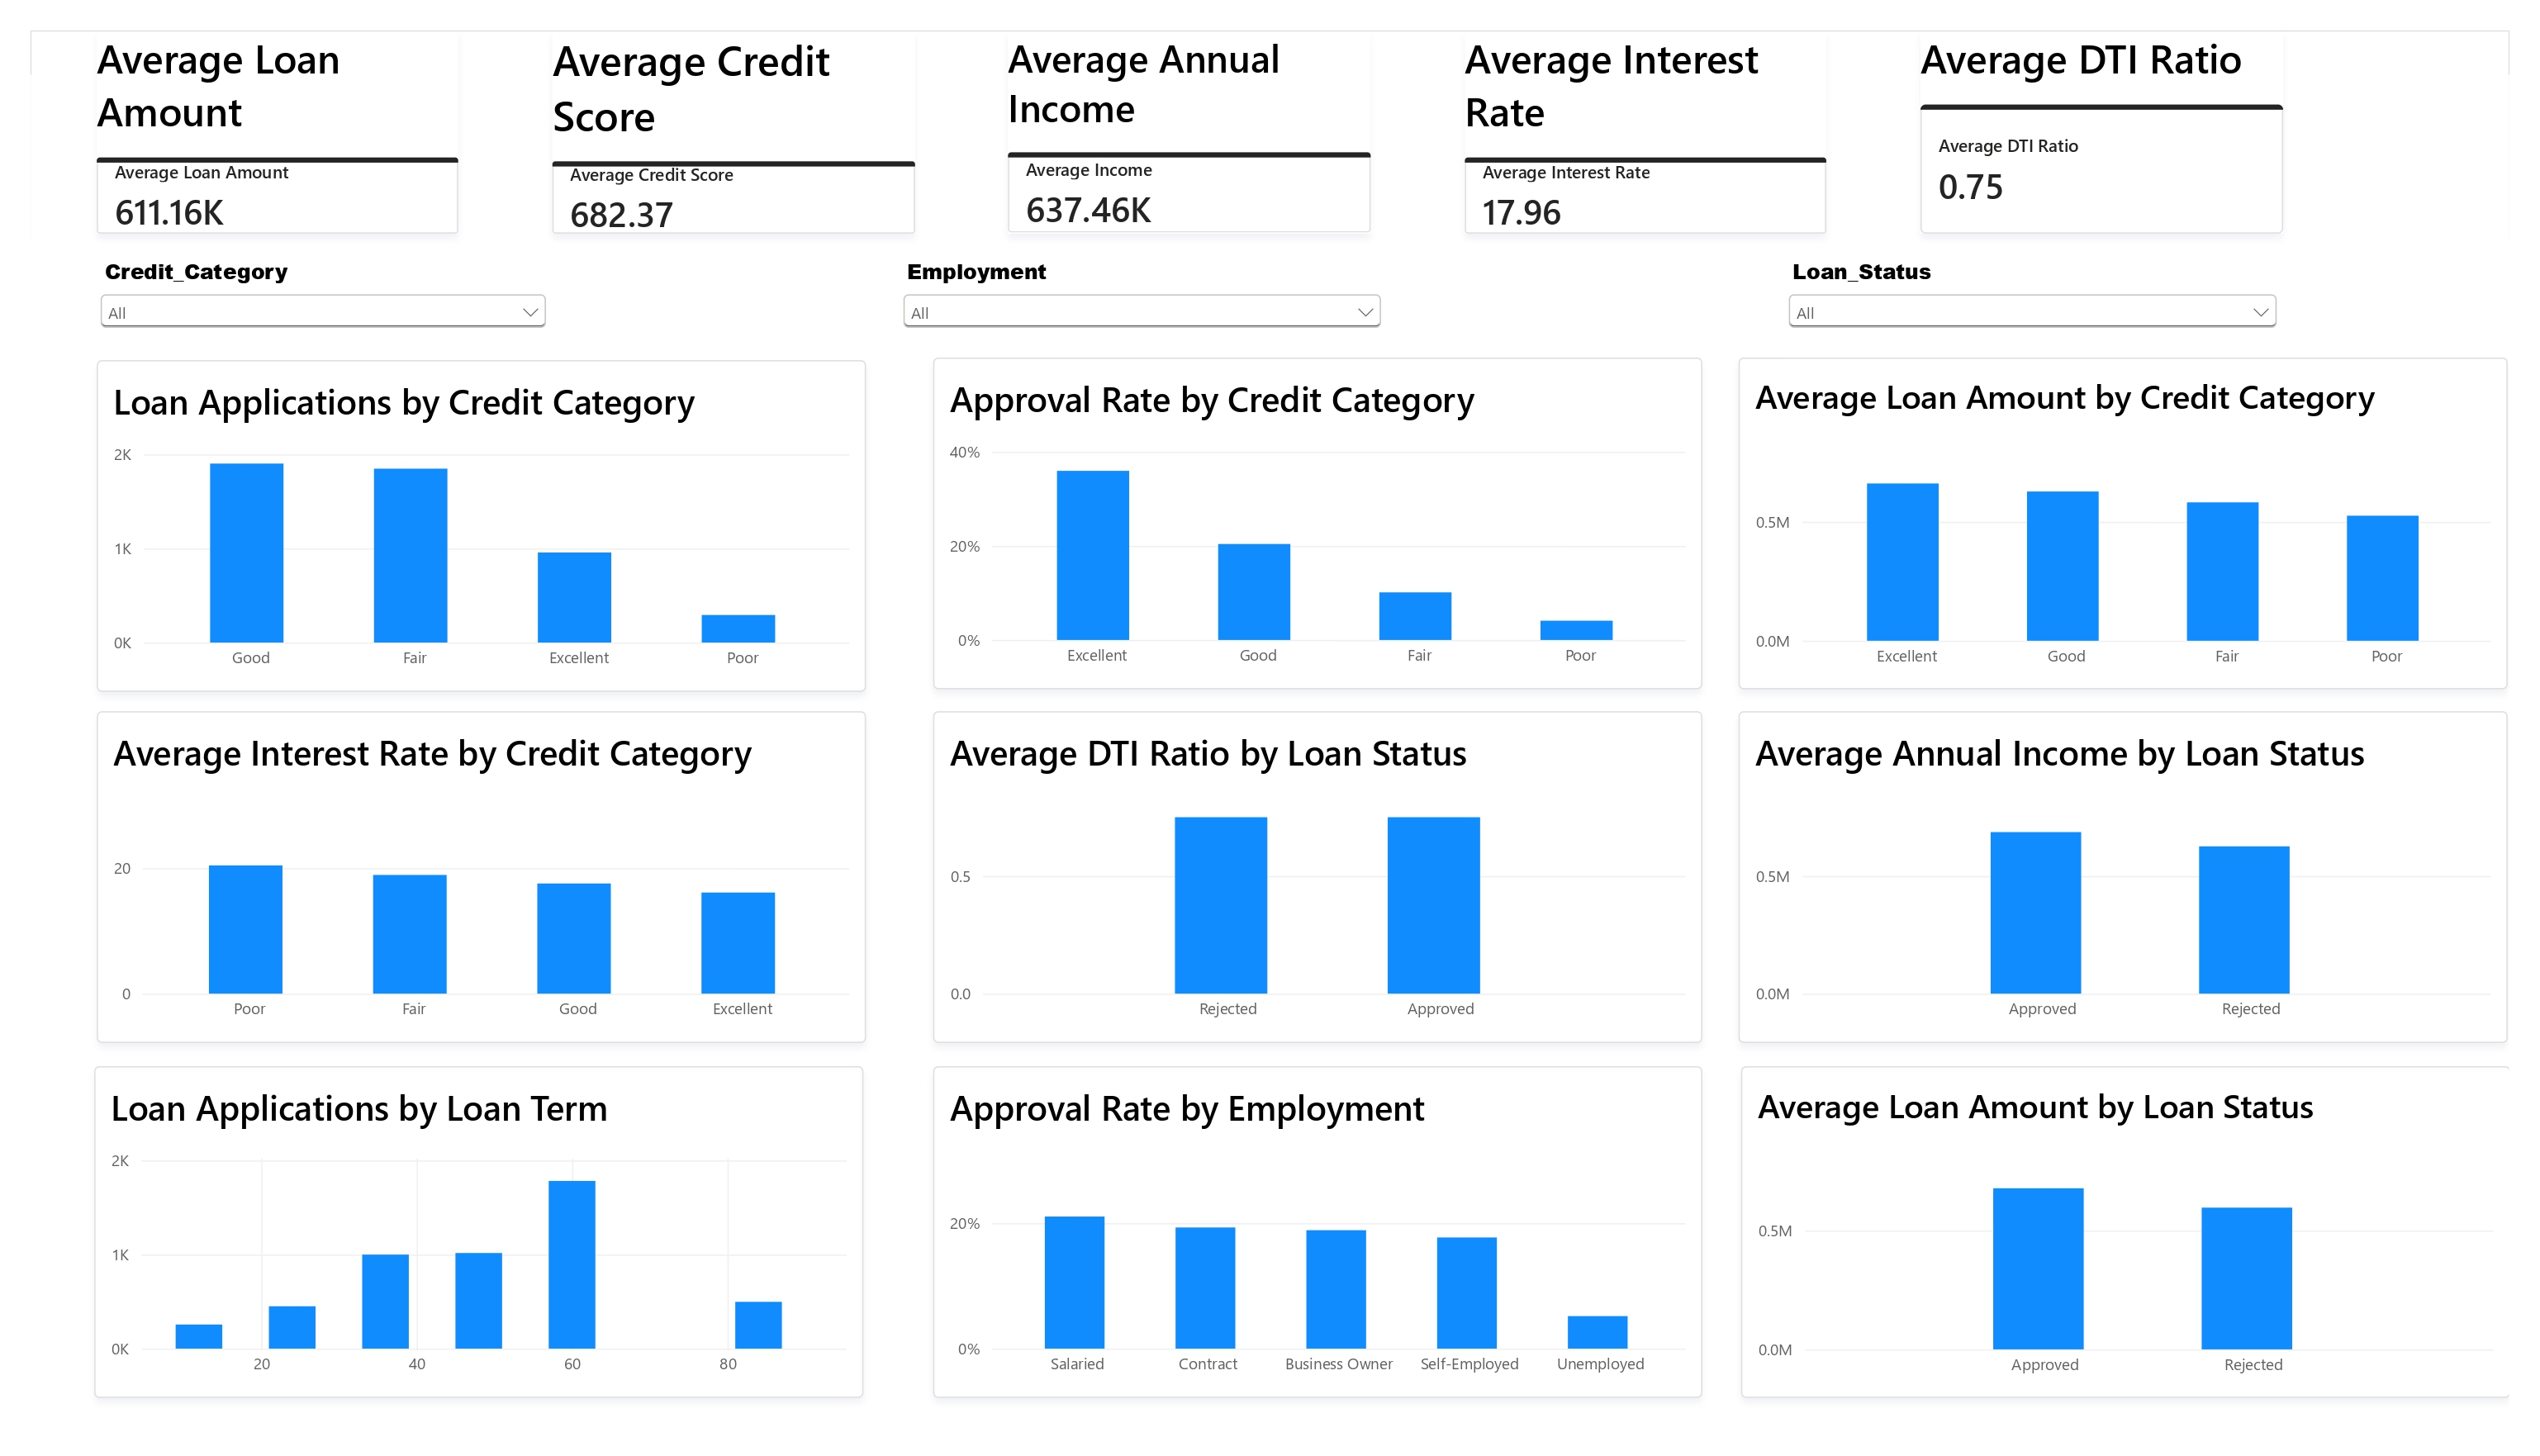

Layout of this report page (visuals, bound fields, positions):
{"tool":"powerbi","page":{"name":"Loan Analysis","canvas":[1920,1080],"ordinal":1},"visuals":[{"type":"cardVisual","title":"Average Loan Amount","fields":{"Data":["Banking_Loan_Risk_Analysis_Final.Average Loan Amount"]},"box":[50.7,0,280.6,156.9],"z":0},{"type":"cardVisual","title":"Average Credit Score","fields":{"Data":["Banking_Loan_Risk_Analysis_Final.Average Credit Score"]},"box":[403.8,0,281,157],"z":1},{"type":"cardVisual","title":"Average Annual Income","fields":{"Data":["Banking_Loan_Risk_Analysis_Final.Average Income"]},"box":[757.3,0,281,157],"z":2},{"type":"cardVisual","title":"Average Interest Rate","fields":{"Data":["Banking_Loan_Risk_Analysis_Final.Average Interest Rate"]},"box":[1110.9,0,280.6,156.9],"z":3},{"type":"cardVisual","title":"Average DTI Ratio","fields":{"Data":["Banking_Loan_Risk_Analysis_Final.Average DTI Ratio"]},"box":[1464,0,281,157],"z":4},{"type":"clusteredColumnChart","title":"Loan Applications by Credit Category","fields":{"Category":["Banking_Loan_Risk_Analysis_Final.Credit_Category"],"Y":["CountNonNull(Banking_Loan_Risk_Analysis_Final.Loan_ID)"]},"box":[50.7,255.2,596.3,256.6],"z":5},{"type":"clusteredColumnChart","title":"Approval Rate by Credit Category","fields":{"Category":["Banking_Loan_Risk_Analysis_Final.Credit_Category"],"Y":["Banking_Loan_Risk_Analysis_Final.Approval Rate"]},"box":[698.5,253.4,596,257],"z":6},{"type":"clusteredColumnChart","title":"Average Loan Amount by Credit Category","fields":{"Category":["Banking_Loan_Risk_Analysis_Final.Credit_Category"],"Y":["Avg(Banking_Loan_Risk_Analysis_Final.Loan_Amount)"]},"box":[1322.9,253.4,596.3,256.6],"z":7},{"type":"clusteredColumnChart","title":"Average Interest Rate by Credit Category","fields":{"Category":["Banking_Loan_Risk_Analysis_Final.Credit_Category"],"Y":["Avg(Banking_Loan_Risk_Analysis_Final.Interest_Rate)"]},"box":[50.7,526.6,596,257],"z":8},{"type":"clusteredColumnChart","title":"Average DTI Ratio by Loan Status","fields":{"Category":["Banking_Loan_Risk_Analysis_Final.Loan_Status"],"Y":["Banking_Loan_Risk_Analysis_Final.Average DTI Ratio"]},"box":[698.5,526.6,596,257],"z":9},{"type":"clusteredColumnChart","title":"Average Annual Income by Loan Status","fields":{"Category":["Banking_Loan_Risk_Analysis_Final.Loan_Status"],"Y":["Avg(Banking_Loan_Risk_Analysis_Final.Annual_Income)"]},"box":[1322.9,526.6,596,257],"z":10},{"type":"clusteredColumnChart","title":"Loan Applications by Loan Term","fields":{"Category":["Banking_Loan_Risk_Analysis_Final.Loan_Term_Months"],"Y":["CountNonNull(Banking_Loan_Risk_Analysis_Final.Loan_ID)"]},"box":[48.9,801.7,596,257],"z":11},{"type":"clusteredColumnChart","title":"Approval Rate by Employment","fields":{"Category":["Banking_Loan_Risk_Analysis_Final.Employment"],"Y":["Banking_Loan_Risk_Analysis_Final.Approval Rate"]},"box":[698.5,801.7,596,257],"z":12},{"type":"clusteredColumnChart","title":"Average Loan Amount by Loan Status","fields":{"Category":["Banking_Loan_Risk_Analysis_Final.Loan_Status"],"Y":["Avg(Banking_Loan_Risk_Analysis_Final.Loan_Amount)"]},"box":[1324.7,801.7,596,257],"z":13},{"type":"slicer","fields":{"Values":["Banking_Loan_Risk_Analysis_Final.Credit_Category"]},"box":[48.9,173.7,354.7,79.6],"z":14},{"type":"slicer","fields":{"Values":["Banking_Loan_Risk_Analysis_Final.Employment"]},"box":[671.3,174.3,379.7,62.4],"z":15},{"type":"slicer","fields":{"Values":["Banking_Loan_Risk_Analysis_Final.Loan_Status"]},"box":[1357.2,173.7,387.3,79.6],"z":16}]}

Visuals, with their boxes on the page's 1920x1080 design canvas (x1, y1, x2, y2). These are canvas units, not pixel positions in the 2540x1456 screenshot, which may show the page scaled, cropped or inside an application window:
"Average Loan Amount" cardVisual: bbox(51, 0, 331, 157)
"Average Credit Score" cardVisual: bbox(404, 0, 685, 157)
"Average Annual Income" cardVisual: bbox(757, 0, 1038, 157)
"Average Interest Rate" cardVisual: bbox(1111, 0, 1392, 157)
"Average DTI Ratio" cardVisual: bbox(1464, 0, 1745, 157)
"Loan Applications by Credit Category" clusteredColumnChart: bbox(51, 255, 647, 512)
"Approval Rate by Credit Category" clusteredColumnChart: bbox(698, 253, 1294, 510)
"Average Loan Amount by Credit Category" clusteredColumnChart: bbox(1323, 253, 1919, 510)
"Average Interest Rate by Credit Category" clusteredColumnChart: bbox(51, 527, 647, 784)
"Average DTI Ratio by Loan Status" clusteredColumnChart: bbox(698, 527, 1294, 784)
"Average Annual Income by Loan Status" clusteredColumnChart: bbox(1323, 527, 1919, 784)
"Loan Applications by Loan Term" clusteredColumnChart: bbox(49, 802, 645, 1059)
"Approval Rate by Employment" clusteredColumnChart: bbox(698, 802, 1294, 1059)
"Average Loan Amount by Loan Status" clusteredColumnChart: bbox(1325, 802, 1921, 1059)
slicer - Banking_Loan_Risk_Analysis_Final.Credit_Category: bbox(49, 174, 404, 253)
slicer - Banking_Loan_Risk_Analysis_Final.Employment: bbox(671, 174, 1051, 237)
slicer - Banking_Loan_Risk_Analysis_Final.Loan_Status: bbox(1357, 174, 1744, 253)
